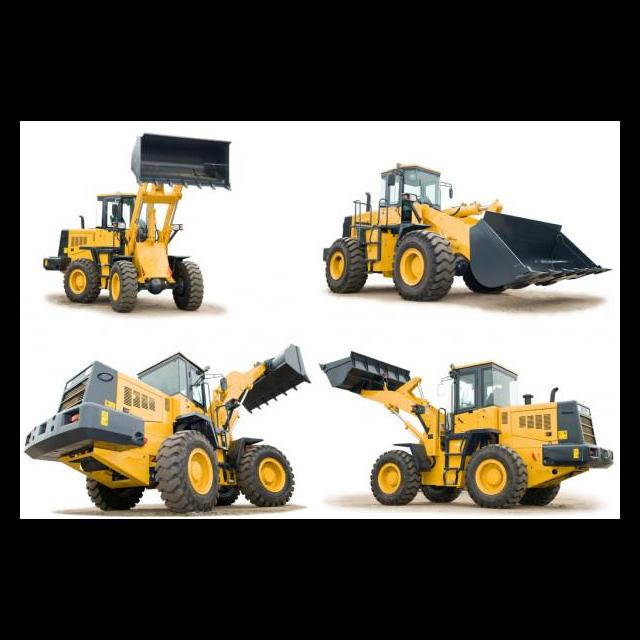wheel loader: (319, 123, 615, 302), (22, 337, 312, 518), (318, 347, 617, 513), (43, 124, 239, 339)
